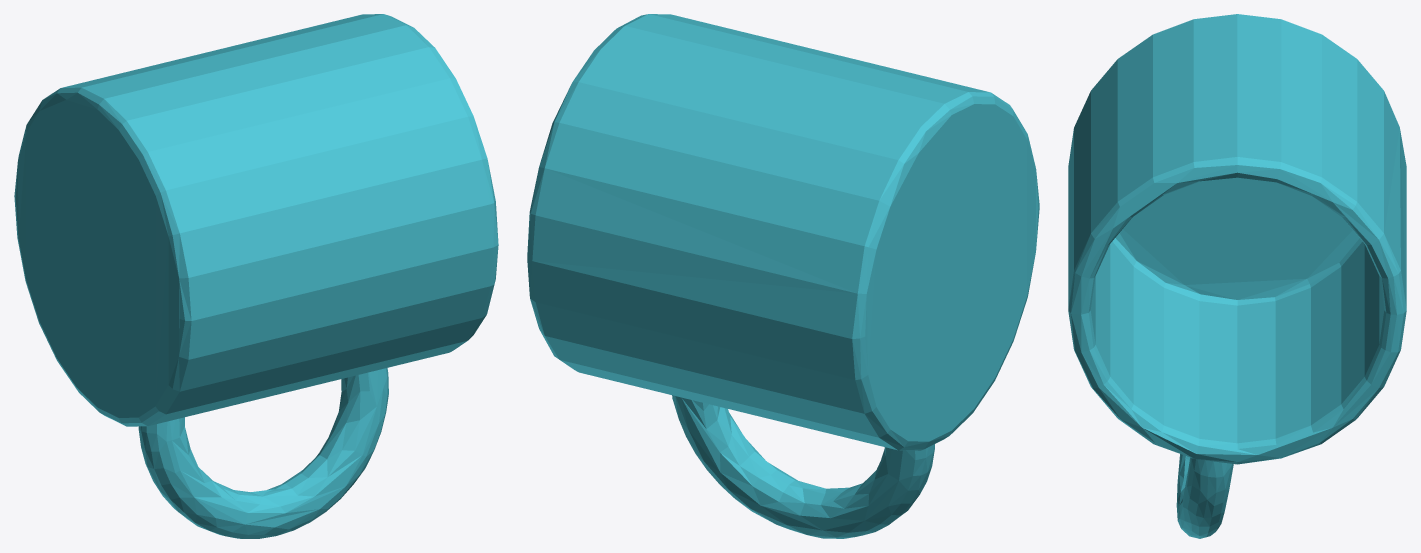
The picture shows the model from 3 angles, left to right: view 1: azimuth 30°, elevation 25°; view 2: azimuth 150°, elevation 25°; view 3: azimuth 270°, elevation 25°; orthographic projection. The views are drawn at different scales.
Parts seen in each view (by area): view 1: Renderer Node; view 2: Renderer Node; view 3: Renderer Node.
Part boxes in pixels (left/top/right/bottom): Renderer Node: left=14, top=14, right=498, bottom=538; Renderer Node: left=527, top=14, right=1039, bottom=538; Renderer Node: left=1068, top=14, right=1406, bottom=538.
Bounding box in the file's own units: 0.5144 × 0.7046 × 0.4885.
1 material, 1 textured.
